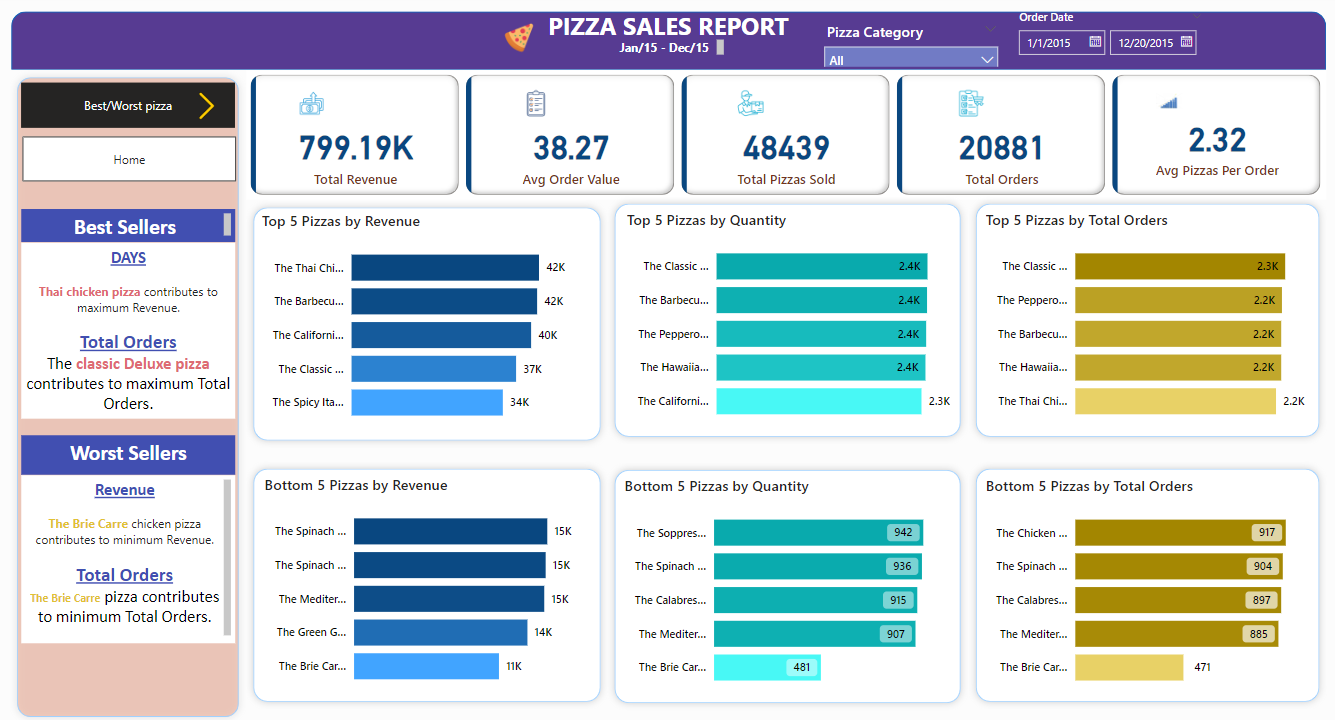

The dashboard page shown, as its layout file describes it:
{"tool":"powerbi","page":{"name":"Best/Worst pizza","canvas":[1500,820],"ordinal":1},"visuals":[{"type":"shape","box":[17.1,80,262.9,728.6],"z":0},{"type":"cardVisual","fields":{"Data":["pizza_sales.Total Revenue","pizza_sales.Avg Order Value","pizza_sales.Total Pizzas Sold","pizza_sales.Total Orders","pizza_sales.Avg Pizzas Per Order"]},"box":[280,80,1202.9,144.3],"z":1000},{"type":"shape","box":[17.5,13.8,1465,65],"z":2000},{"type":"textbox","box":[605.7,7.1,288.6,47.1],"z":3000},{"type":"textbox","box":[682.9,40,134.3,27.1],"z":4000},{"type":"image","box":[562.9,20,42.9,47.1],"z":5000},{"type":"shape","box":[280,224.3,402.9,275.7],"z":6000},{"type":"textbox","box":[28.6,234.3,238.6,37.1],"z":7000},{"type":"textbox","box":[28.6,271.4,238.6,195.7],"z":8000},{"type":"textbox","box":[28.6,485.7,238.6,44.3],"z":9000},{"type":"textbox","box":[28.6,530,238.6,187.1],"z":10000},{"type":"slicer","fields":{"Values":["pizza_sales.pizza_category"]},"box":[914.3,20,214.3,55.7],"z":11000},{"type":"slicer","fields":{"Values":["pizza_sales.order_date"]},"box":[1128.6,7.1,228.6,75.7],"z":12000},{"type":"shape","box":[682.9,220,401.4,275.7],"z":13000},{"type":"shape","box":[1084.3,220,398.6,275.7],"z":14000},{"type":"shape","box":[280,515.7,402.9,275.7],"z":15000},{"type":"shape","box":[682.9,517.1,401.4,275.7],"z":16000},{"type":"shape","box":[1084.3,515.7,398.6,275.7],"z":17000},{"type":"barChart","title":"Top 5 Pizzas by Revenue","fields":{"Category":["pizza_sales.pizza_name"],"Y":["pizza_sales.Total Revenue"]},"box":[292.9,235.7,370,250],"z":18000},{"type":"barChart","title":"Bottom 5 Pizzas by Revenue","fields":{"Category":["pizza_sales.pizza_name"],"Y":["pizza_sales.Total Revenue"]},"box":[295.7,528.6,370,250],"z":19000},{"type":"barChart","title":"Top 5 Pizzas by Quantity","fields":{"Category":["pizza_sales.pizza_name"],"Y":["pizza_sales.Total Pizzas Sold"]},"box":[698.6,234.3,370,250],"z":20000},{"type":"barChart","title":"Bottom 5 Pizzas by Quantity","fields":{"Category":["pizza_sales.pizza_name"],"Y":["pizza_sales.Total Pizzas Sold"]},"box":[695.7,530,370,250],"z":21000},{"type":"barChart","title":"Top 5 Pizzas by Total Orders","fields":{"Category":["pizza_sales.pizza_name"],"Y":["pizza_sales.Total Orders"]},"box":[1098.6,234.3,370,250],"z":22000},{"type":"barChart","title":"Bottom 5 Pizzas by Total Orders","fields":{"Category":["pizza_sales.pizza_name"],"Y":["pizza_sales.Total Orders"]},"box":[1098.6,530,370,250],"z":23000},{"type":"pageNavigator","box":[28.6,92.9,238.6,50],"z":24000},{"type":"pageNavigator","box":[30,152.9,238.6,50],"z":25000},{"type":"image","box":[215.7,97.1,40,42.9],"z":26000}]}

Visuals, with their boxes in screenshot pixels (x1, y1, x2, y2), scaled from the page's 1500x820 canvas onto the 1335x720 screenshot:
shape: bbox=(15, 70, 249, 710)
cardVisual - pizza_sales.Total Revenue x pizza_sales.Avg Order Value: bbox=(249, 70, 1320, 197)
shape: bbox=(16, 12, 1319, 69)
textbox: bbox=(539, 6, 796, 48)
textbox: bbox=(608, 35, 727, 59)
image: bbox=(501, 18, 539, 59)
shape: bbox=(249, 197, 608, 439)
textbox: bbox=(25, 206, 238, 238)
textbox: bbox=(25, 238, 238, 410)
textbox: bbox=(25, 426, 238, 465)
textbox: bbox=(25, 465, 238, 630)
slicer - pizza_sales.pizza_category: bbox=(814, 18, 1004, 66)
slicer - pizza_sales.order_date: bbox=(1004, 6, 1208, 73)
shape: bbox=(608, 193, 965, 435)
shape: bbox=(965, 193, 1320, 435)
shape: bbox=(249, 453, 608, 695)
shape: bbox=(608, 454, 965, 696)
shape: bbox=(965, 453, 1320, 695)
"Top 5 Pizzas by Revenue" barChart: bbox=(261, 207, 590, 426)
"Bottom 5 Pizzas by Revenue" barChart: bbox=(263, 464, 592, 684)
"Top 5 Pizzas by Quantity" barChart: bbox=(622, 206, 951, 425)
"Bottom 5 Pizzas by Quantity" barChart: bbox=(619, 465, 948, 685)
"Top 5 Pizzas by Total Orders" barChart: bbox=(978, 206, 1307, 425)
"Bottom 5 Pizzas by Total Orders" barChart: bbox=(978, 465, 1307, 685)
pageNavigator: bbox=(25, 82, 238, 125)
pageNavigator: bbox=(27, 134, 239, 178)
image: bbox=(192, 85, 228, 123)
